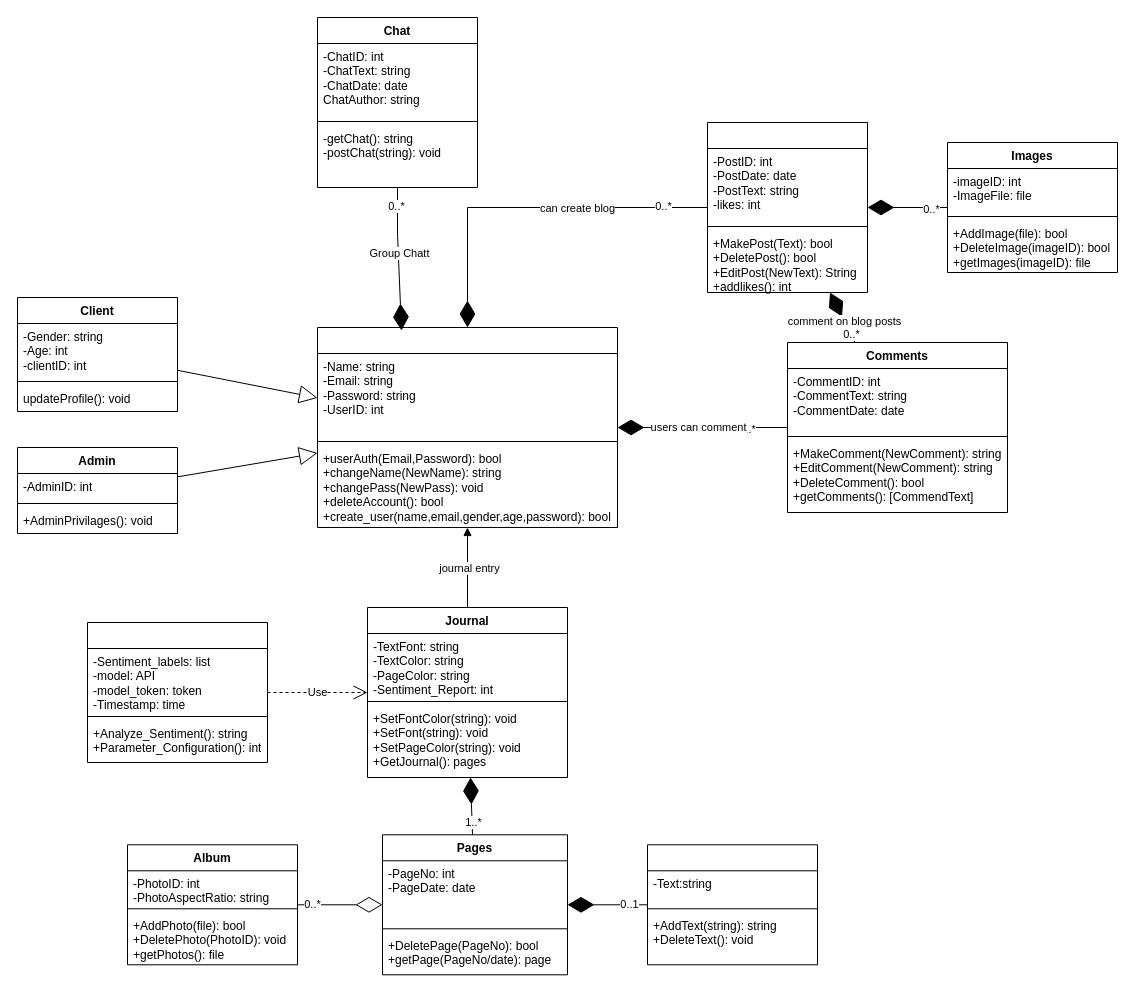
Image size: 1135x995. Some labels were removed from this diagram. Here are the shapes that lost their labels. From the top down, the box of each, then its label:
(706, 122, 868, 292): Posts
(316, 326, 618, 528): Users
(86, 622, 268, 762): Sentiment_Analyser
(646, 844, 818, 965): Entry
